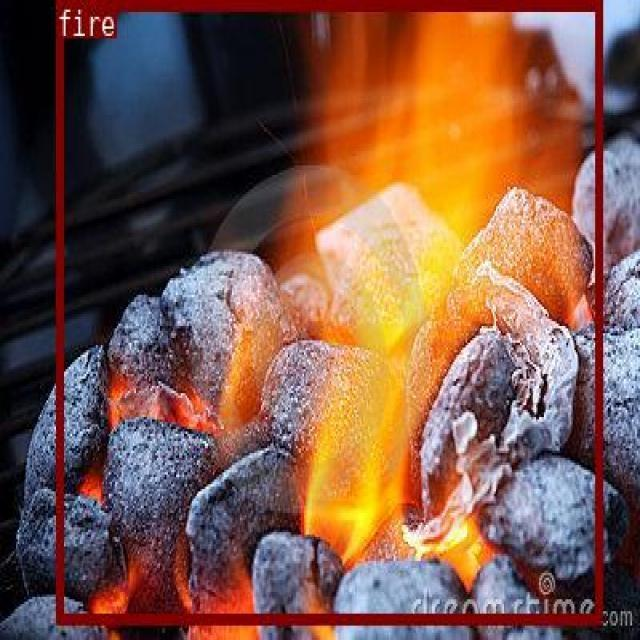fire: (55, 0, 602, 623)
